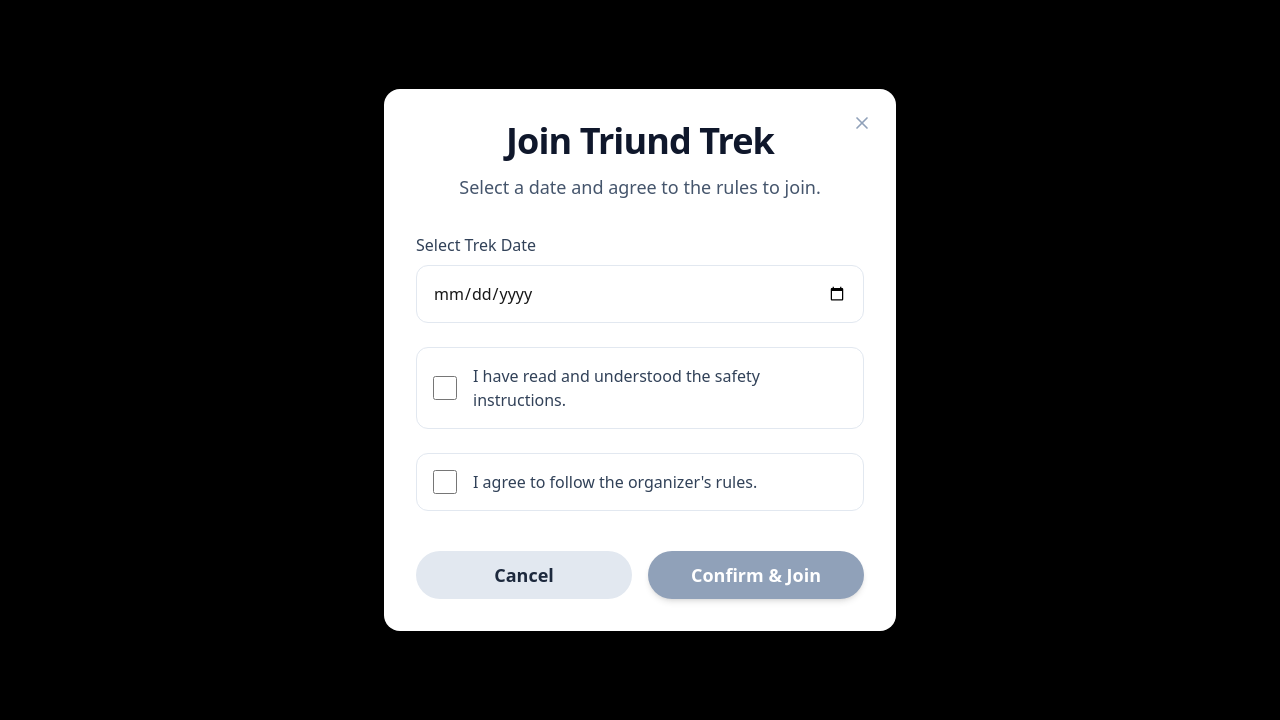
Scenario: ConfirmationModal › keeps Confirm disabled until date + both checkboxes are set
The image size is (1280, 720).
expect the button "Confirm & Join" is disabled: met, box 648,551 -> 864,599
Type "2099-01-01" into the date field.
click(640, 294); type("2099-01-01")  # box 416,265 -> 864,323
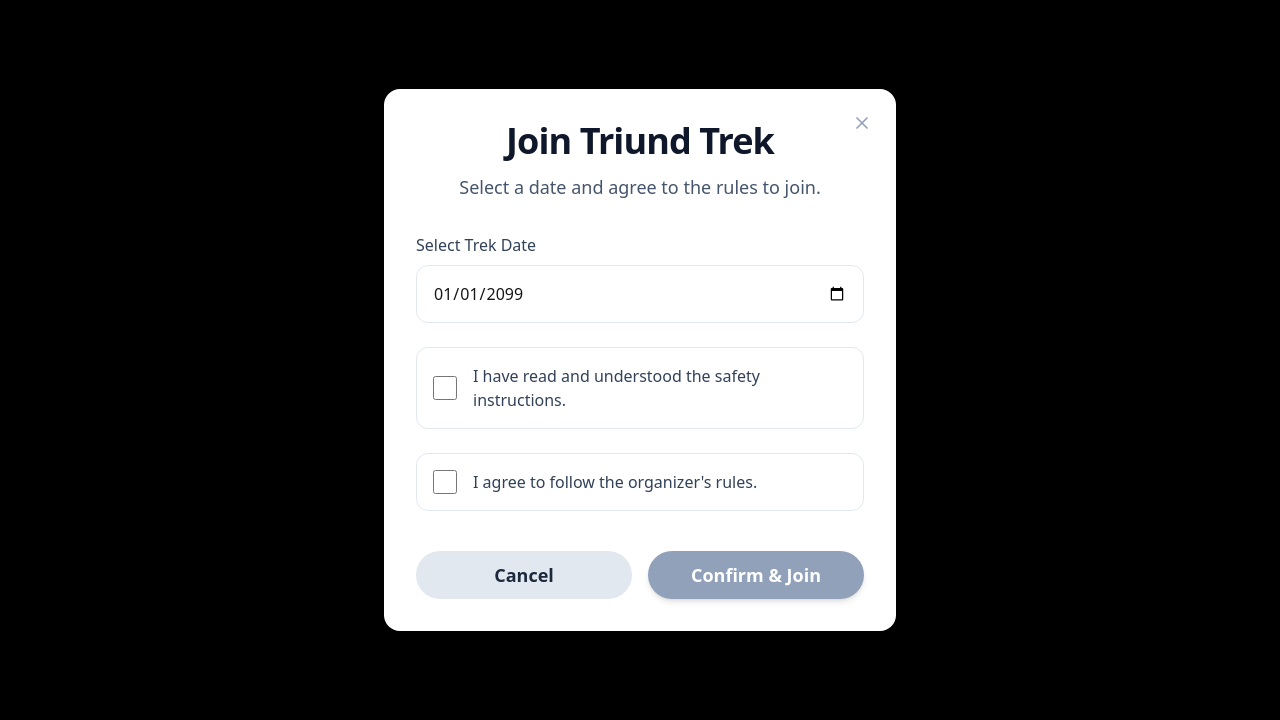
expect the button "Confirm & Join" is disabled: met, box 648,551 -> 864,599
Click the checkbox labelled "I have read and understood the safety instructions.".
click(445, 388)  # box 433,376 -> 457,400
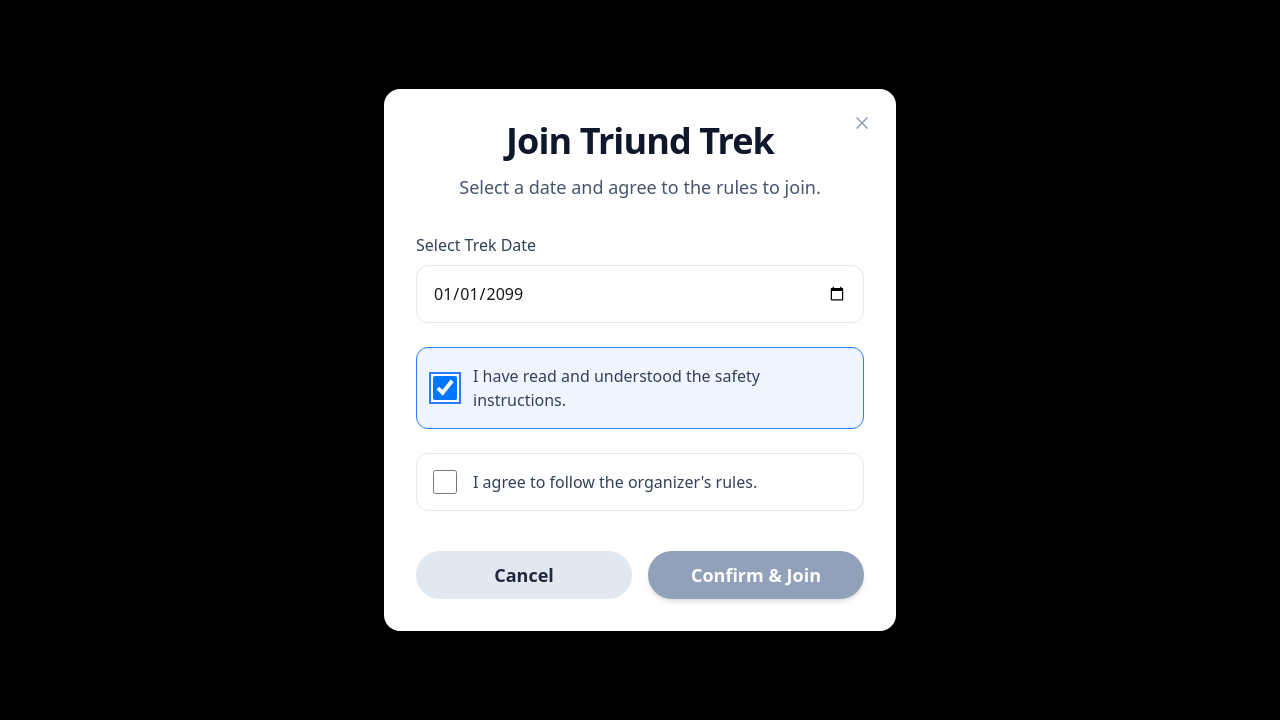
Click the checkbox labelled "I agree to follow the organizer's rules.".
click(445, 482)  # box 433,470 -> 457,494
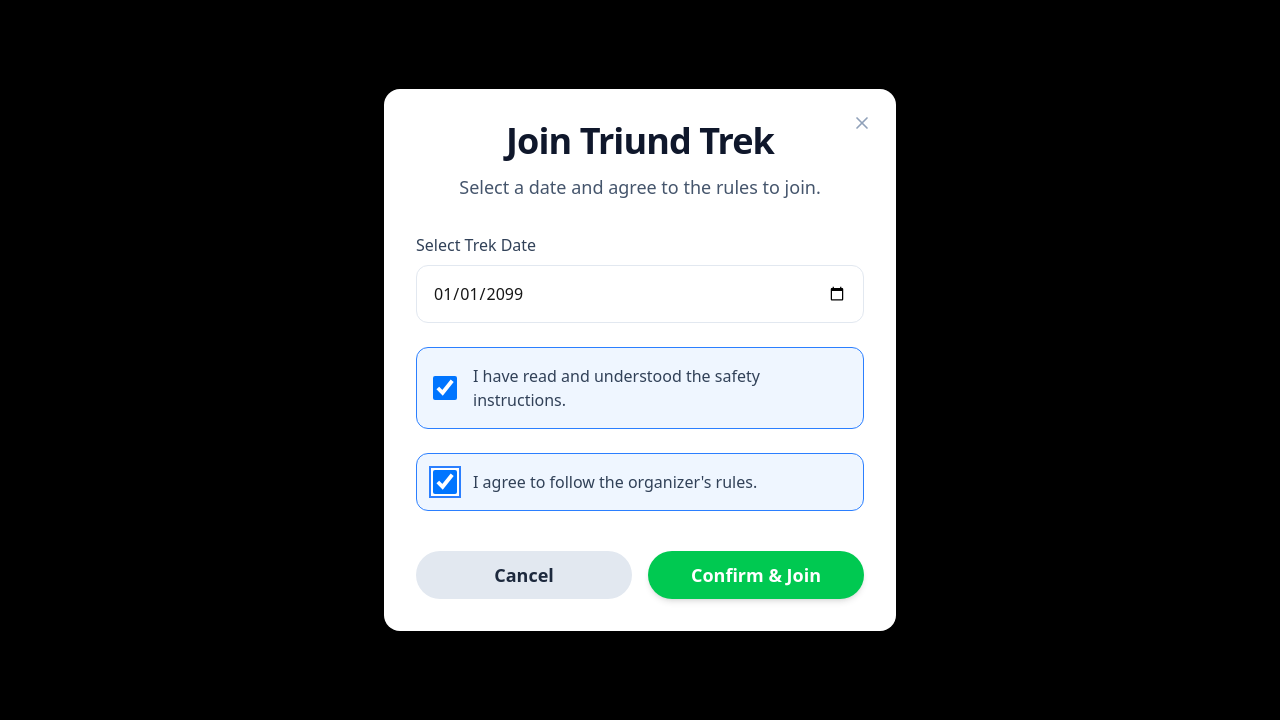
expect the button "Confirm & Join" is enabled: met, box 648,551 -> 864,599
